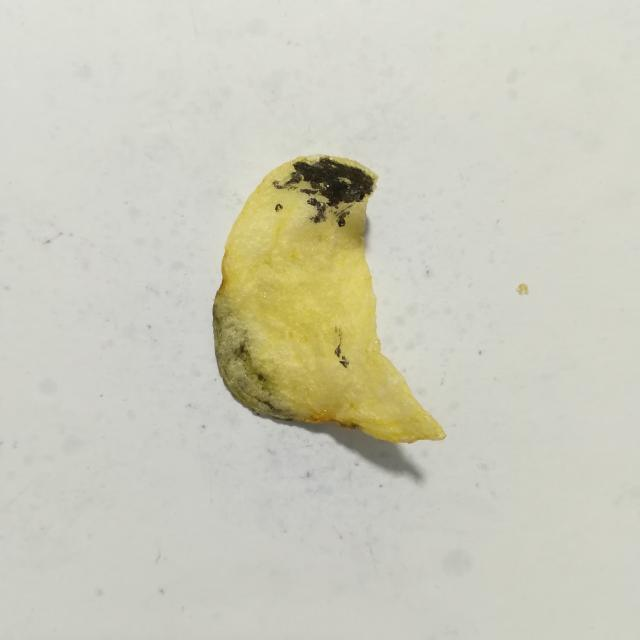chip: (213, 155, 445, 443)
damaged: (272, 156, 375, 208), (307, 198, 326, 223), (334, 210, 350, 227), (339, 356, 349, 368), (334, 344, 341, 358), (275, 204, 283, 211)
semi-damaged: (213, 292, 303, 420)
